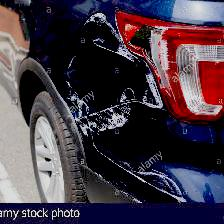tail_lamp: (65, 6, 174, 138), (125, 156, 191, 203)
